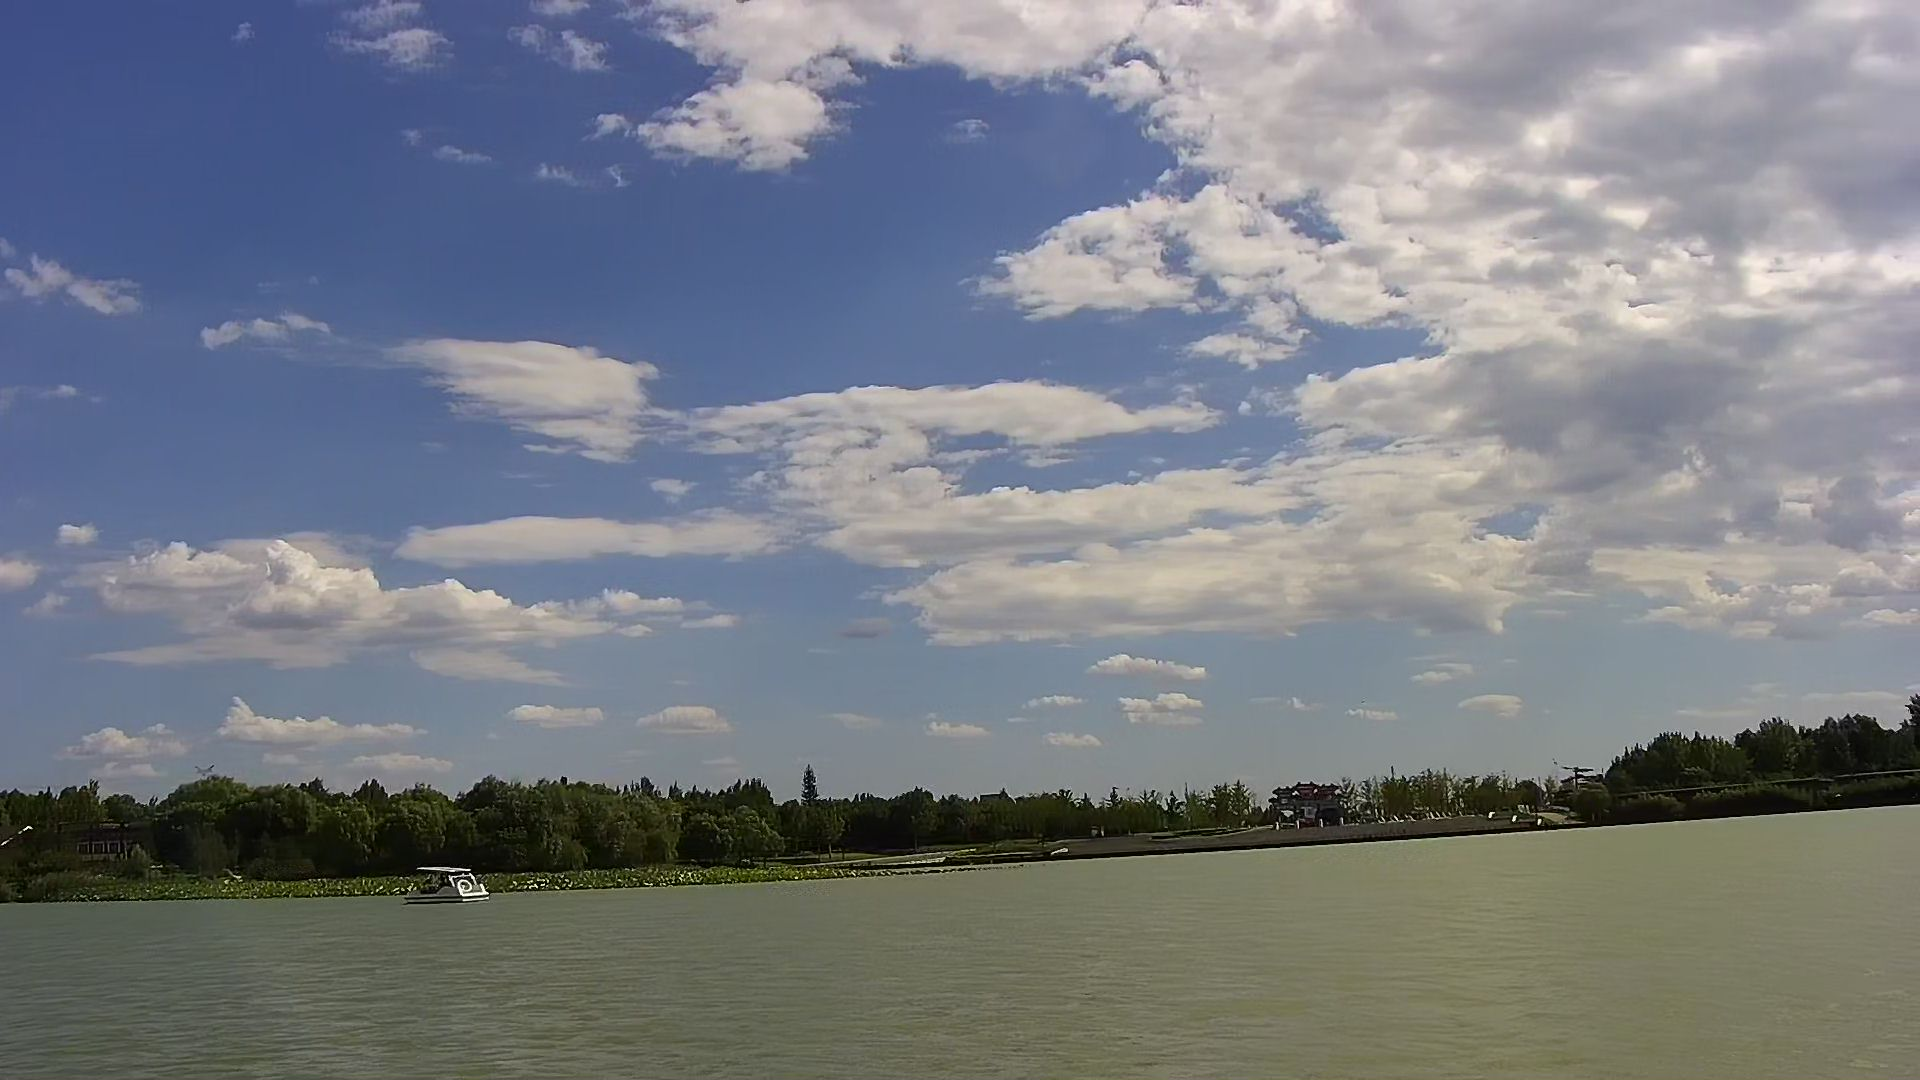boat: (394, 858, 491, 905)
